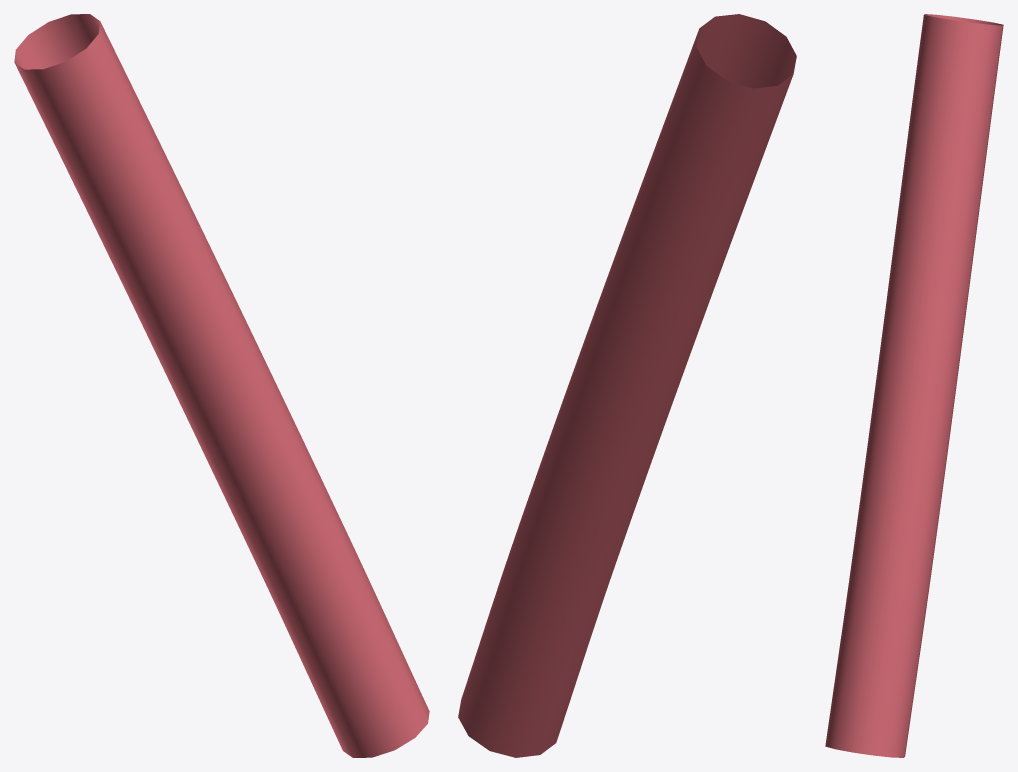
The picture shows the model from 3 angles, left to right: view 1: azimuth 30°, elevation 25°; view 2: azimuth 150°, elevation 25°; view 3: azimuth 270°, elevation 25°; orthographic projection. The views are drawn at different scales.
Parts seen in each view (by area): view 1: ZA_4da938a5a5aa5b99; view 2: ZA_4da938a5a5aa5b99; view 3: ZA_4da938a5a5aa5b99.
Part boxes in pixels (x1,y1,x2,y2): ZA_4da938a5a5aa5b99: [14, 14, 429, 757]; ZA_4da938a5a5aa5b99: [458, 14, 796, 757]; ZA_4da938a5a5aa5b99: [825, 14, 1003, 757].
Bounding box in the file's own units: 0.0101 × 0.0208 × 0.0052.
